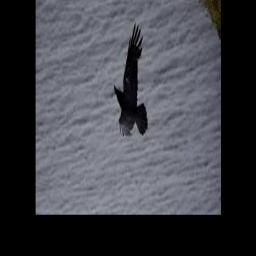Crow: (113, 23, 148, 140)
